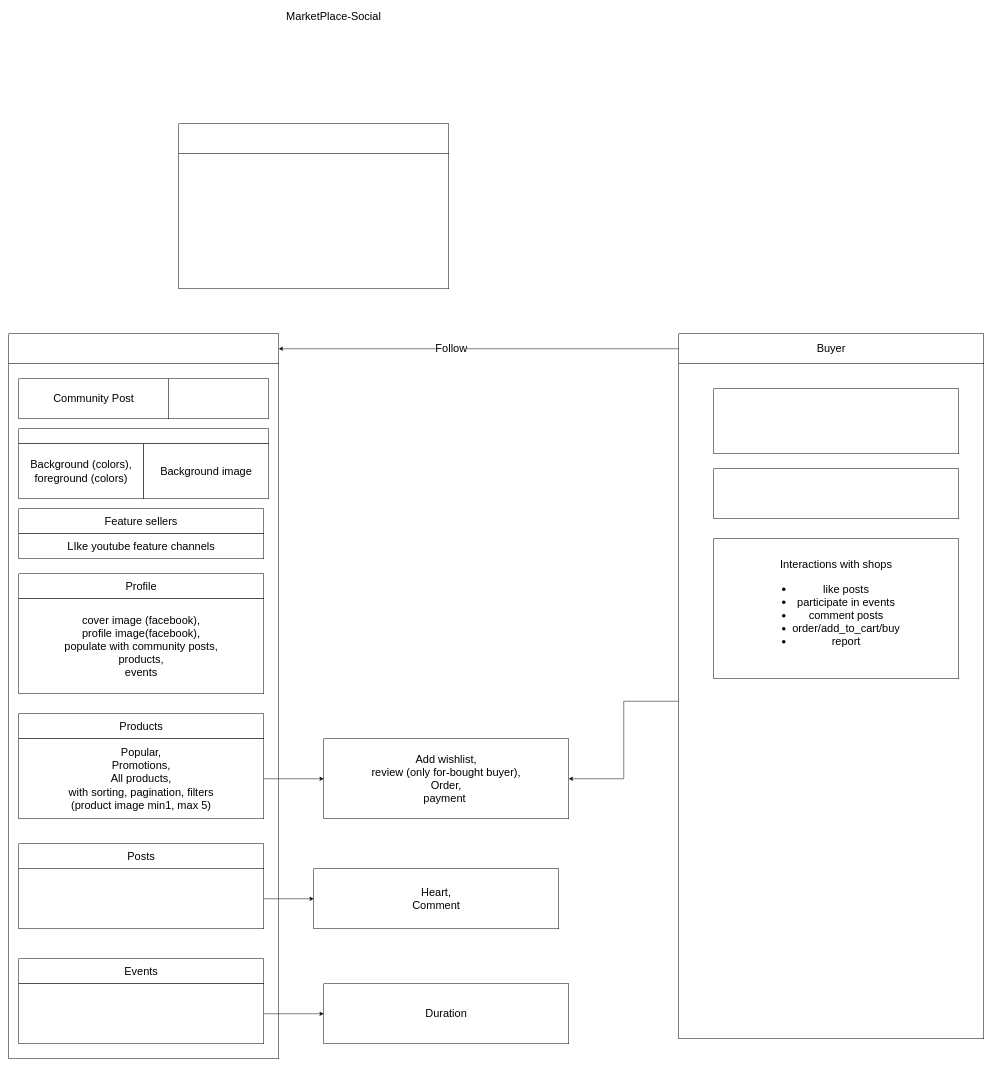
This 993x1068 diagram has some shape labels left out. Each missing label, with the centre of its shape:
Admin: point (313, 138)
Community posts: point (141, 898)
Custom theme: point (143, 436)
Follow shops: point (836, 493)
Minimalis-Profile: point (836, 421)
Product: point (218, 398)
Shops: point (143, 348)
thumbnail image, Banner images (min 0, max 5): point (141, 1013)
